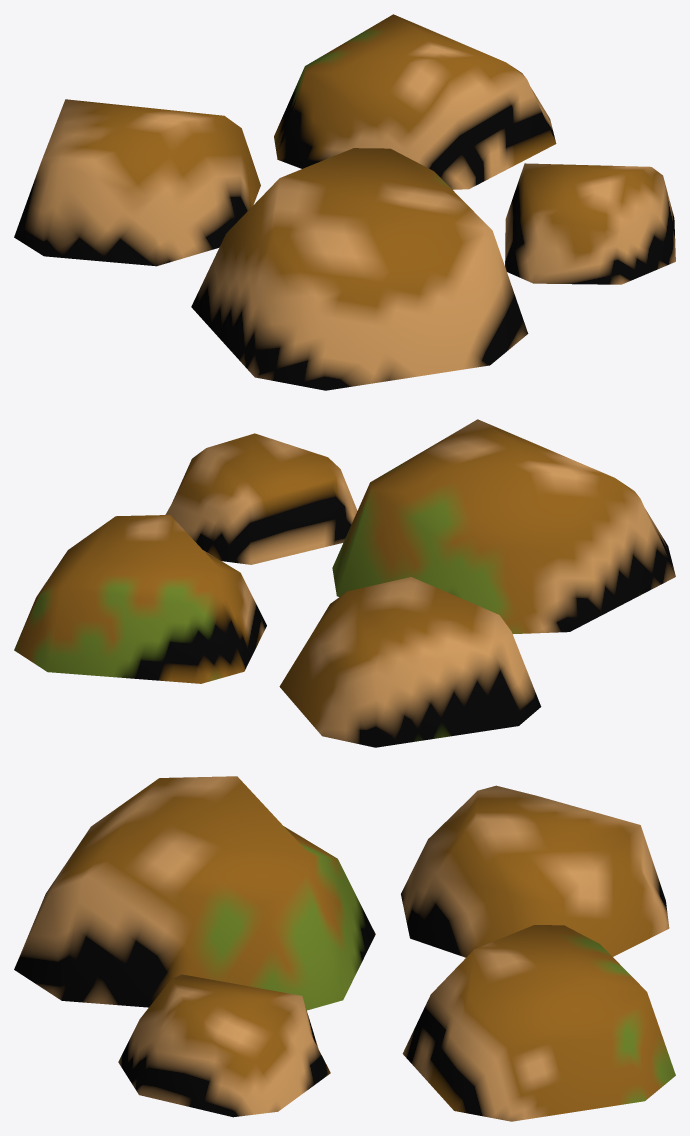
File: deco_rocks_A.FBX
The picture shows the model from 3 angles, top to bottom: view 1: azimuth 30°, elevation 25°; view 2: azimuth 150°, elevation 25°; view 3: azimuth 270°, elevation 25°; orthographic projection. The views are drawn at different scales.
Visible parts, largest first — view 1: deco_rocks_A; view 2: deco_rocks_A; view 3: deco_rocks_A.
Boxes of the visible parts, x1,y1,x2,y2 form: deco_rocks_A: [14, 14, 675, 390]; deco_rocks_A: [14, 419, 675, 747]; deco_rocks_A: [14, 776, 675, 1121].
Size of the model in its own units: 1.79 by 0.4402 by 1.88.
1 material, 1 textured.
